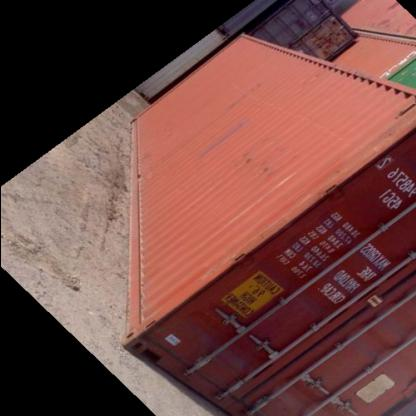Damage: (186, 318, 254, 379), (220, 83, 271, 117), (242, 153, 278, 179)
